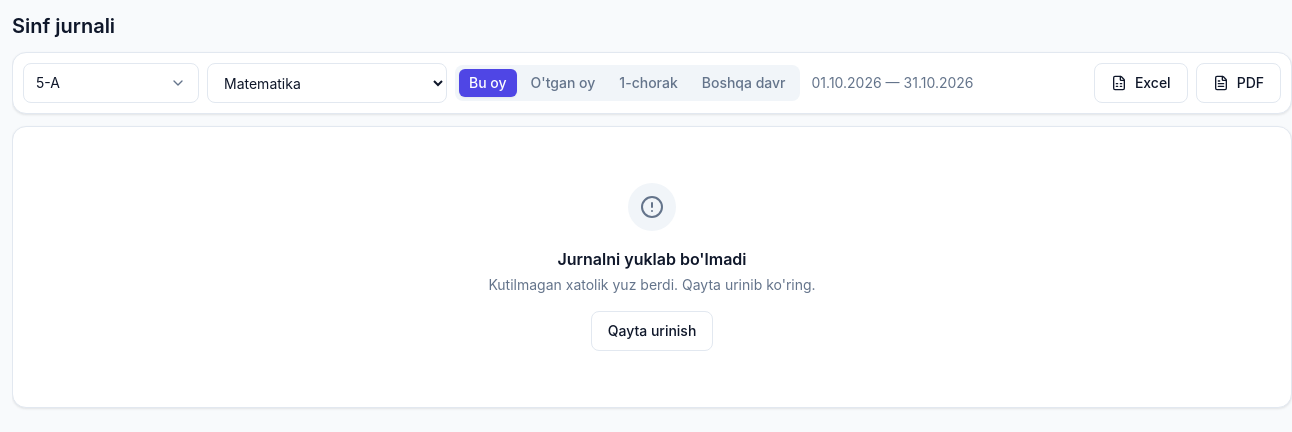
it: JournalView: setka › xato holati va qayta urinish
The width and height of the screenshot is (1292, 432).
Step 1. Click the button "Qayta urinish" → (652, 331), box [591,311,713,351]
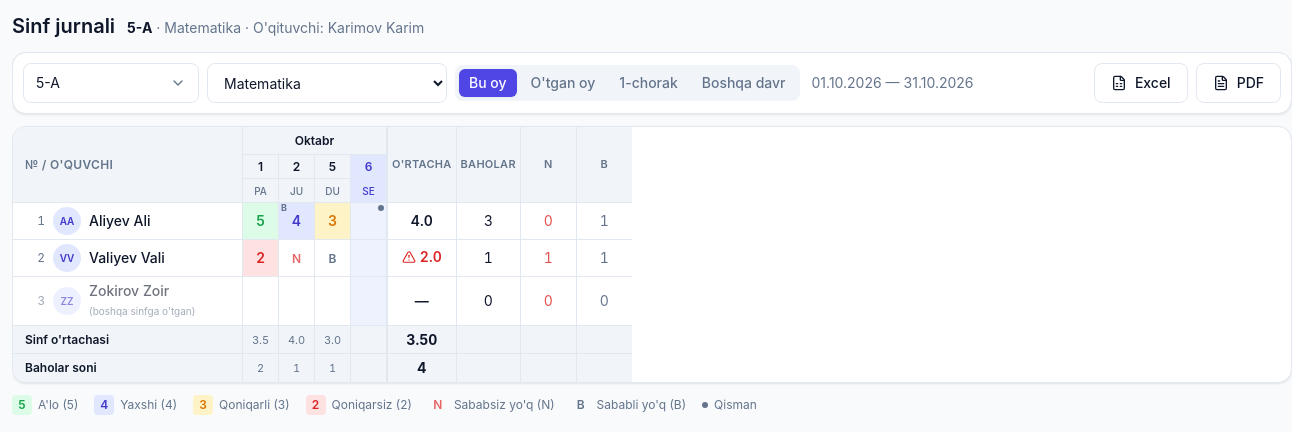
Result: the element with test id "journal-grid" is shown at [12,126,1291,383]
